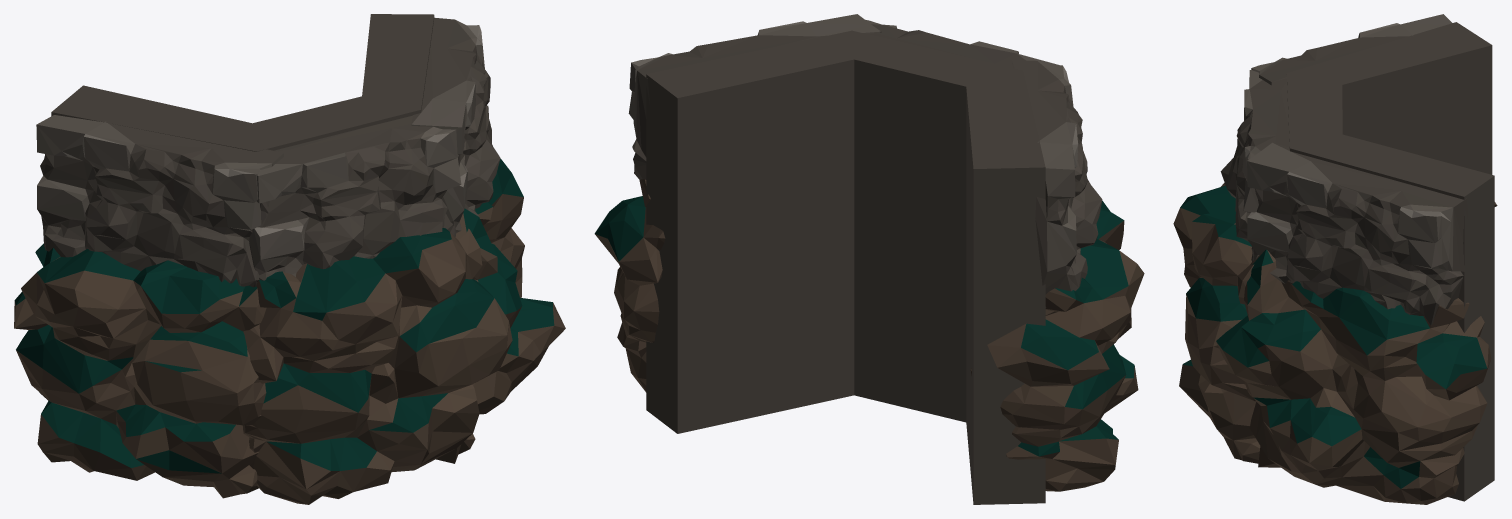
The model's file is MCastle_SmallTurret_04.FBX.
3 renders of one model, left to right at view 1: azimuth 30°, elevation 25°; view 2: azimuth 150°, elevation 25°; view 3: azimuth 270°, elevation 25°, orthographic. The views are drawn at different scales.
Parts seen in each view (by area): view 1: MCastle_SmallTurret_04_Rocks_LOD0; view 2: MCastle_SmallTurret_04_Rocks_LOD0; view 3: MCastle_SmallTurret_04_Rocks_LOD0.
Part boxes in pixels (x1=…): MCastle_SmallTurret_04_Rocks_LOD0: x1=14, y1=14, x2=565, y2=504; MCastle_SmallTurret_04_Rocks_LOD0: x1=594, y1=14, x2=1144, y2=504; MCastle_SmallTurret_04_Rocks_LOD0: x1=1173, y1=14, x2=1497, y2=504.
Size of what is drawn, in the model's own units: 9.61 by 6.21 by 5.85.
